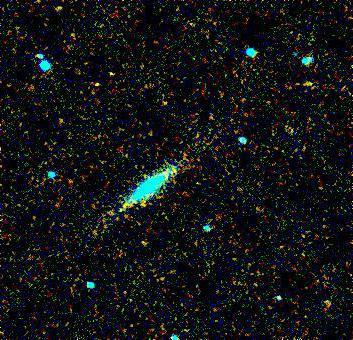star: (106, 194, 136, 224)
